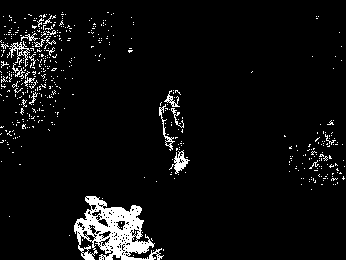person: (157, 87, 191, 178)
